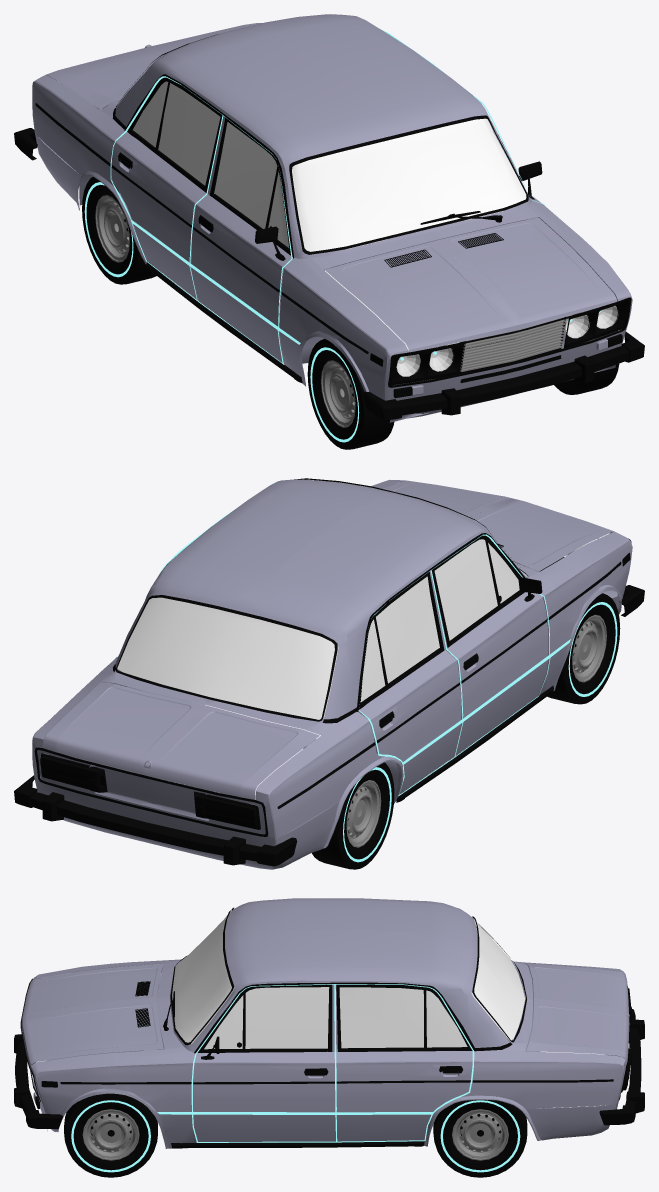
The model's file is SM_Car.fbx.
3 views of the same model, one above another, from view 1: azimuth 30°, elevation 25°; view 2: azimuth 150°, elevation 25°; view 3: azimuth 270°, elevation 25° (orthographic). The views are drawn at different scales.
Visible parts, largest first — view 1: Car_Body; view 2: Car_Body; view 3: Car_Body.
Boxes of the visible parts, bbox=[...] form: Car_Body: bbox=[14, 14, 644, 449]; Car_Body: bbox=[14, 478, 644, 869]; Car_Body: bbox=[14, 898, 644, 1177].
Size of the model in its own units: 132 by 106 by 307.
